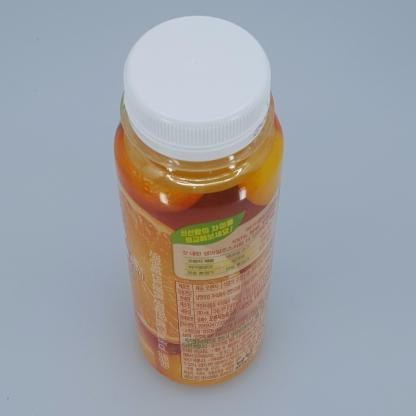--------210ML: (113, 15, 284, 386)
